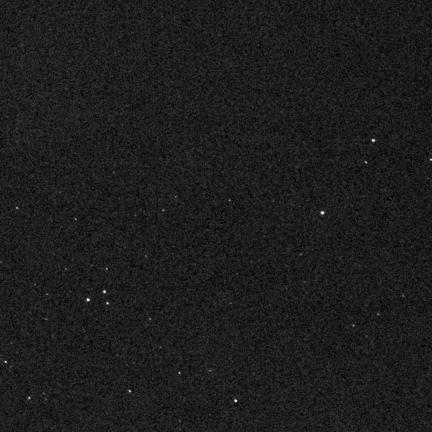blob: (87, 298, 89, 302)
